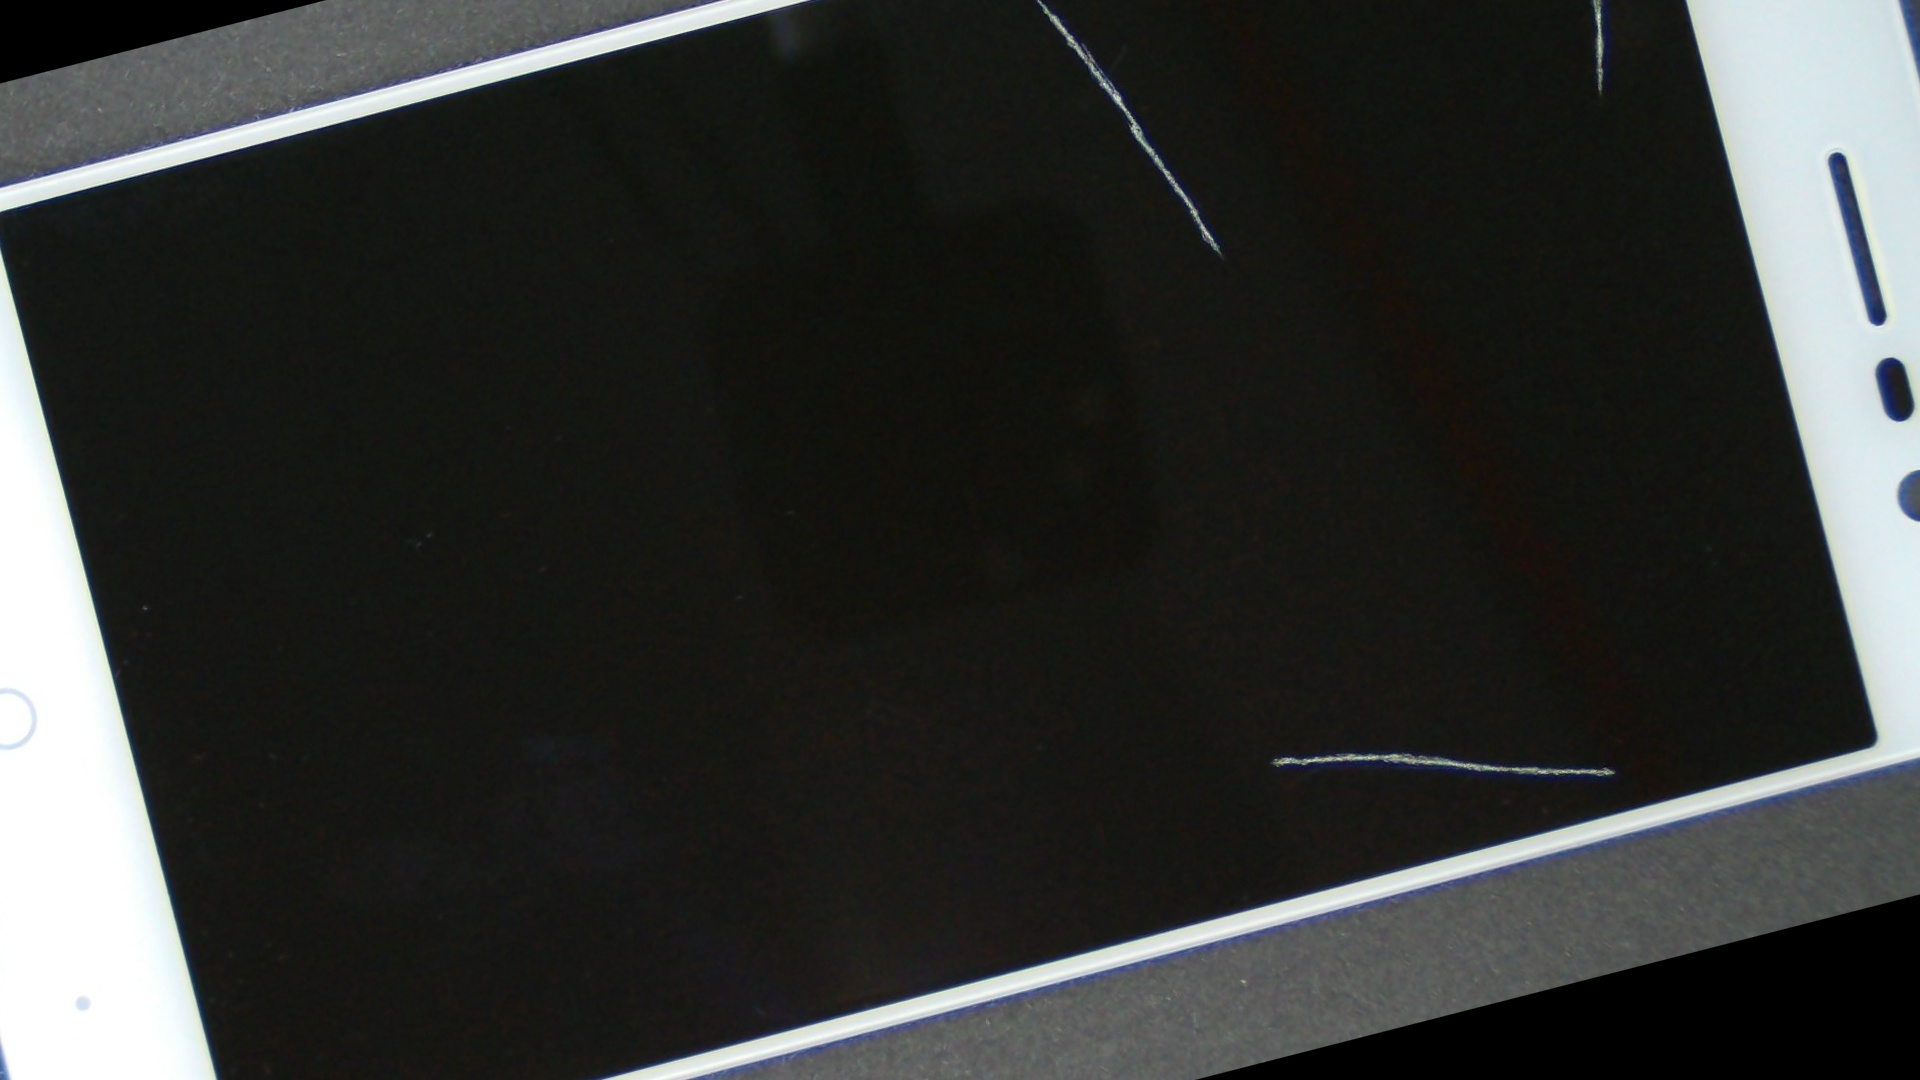oil: (506, 123, 1920, 1080), (384, 0, 1680, 239), (657, 0, 1920, 244), (0, 582, 406, 1080)
